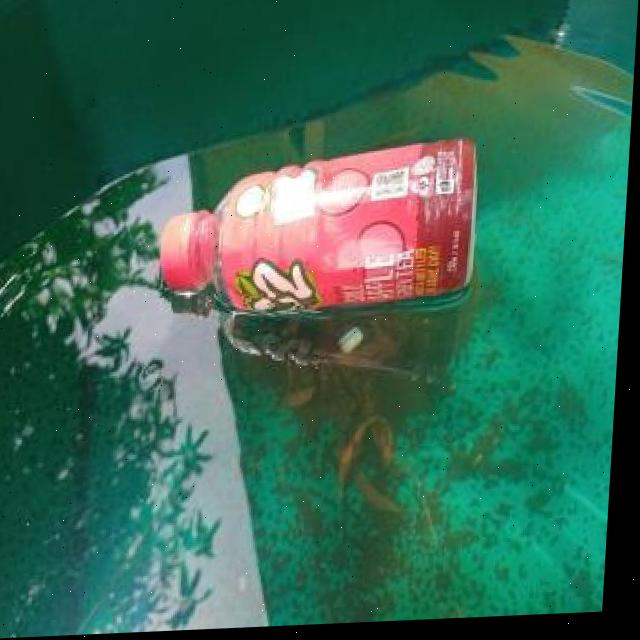bottle: (159, 136, 485, 325)
